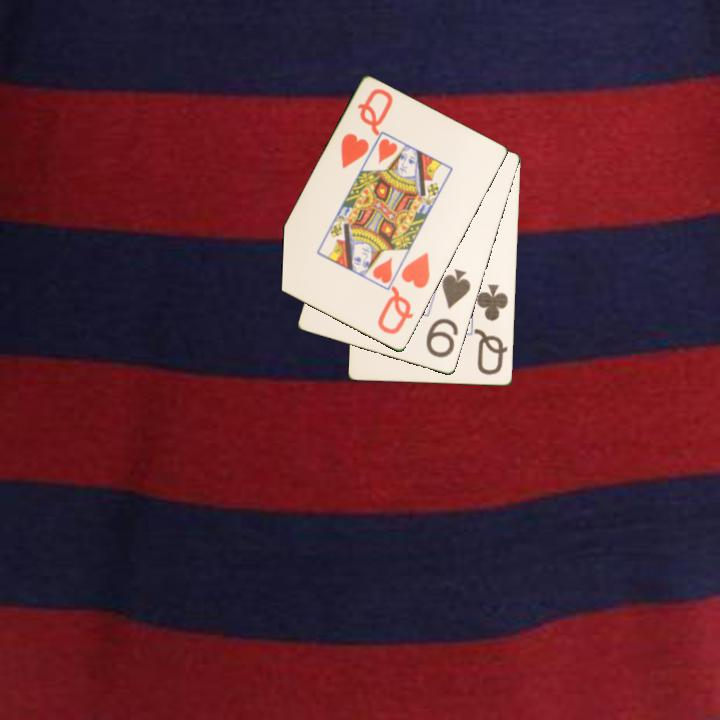9s: (422, 265, 474, 361)
Qc: (472, 281, 511, 378)
Qh: (374, 249, 433, 338), (337, 85, 396, 172)
